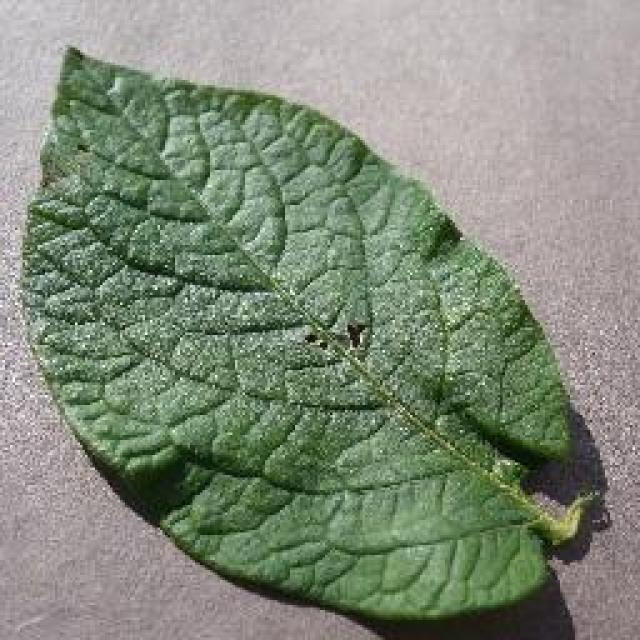Potato: (17, 42, 595, 622)
